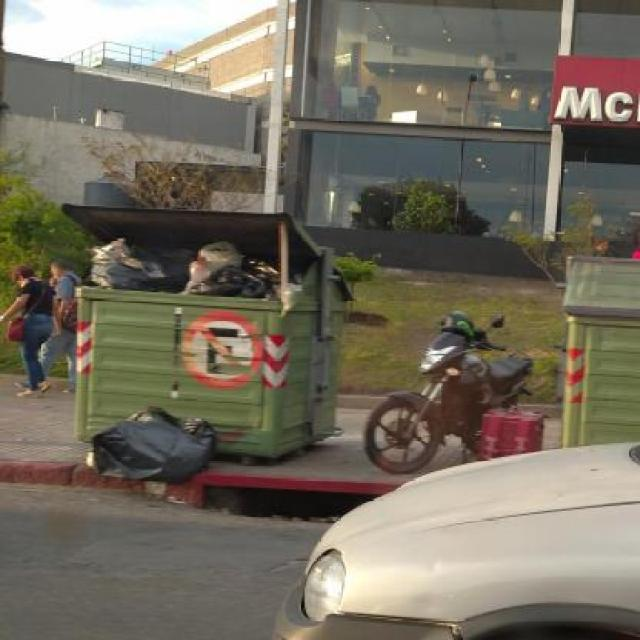garbage: (56, 409, 249, 486), (87, 243, 306, 300)
